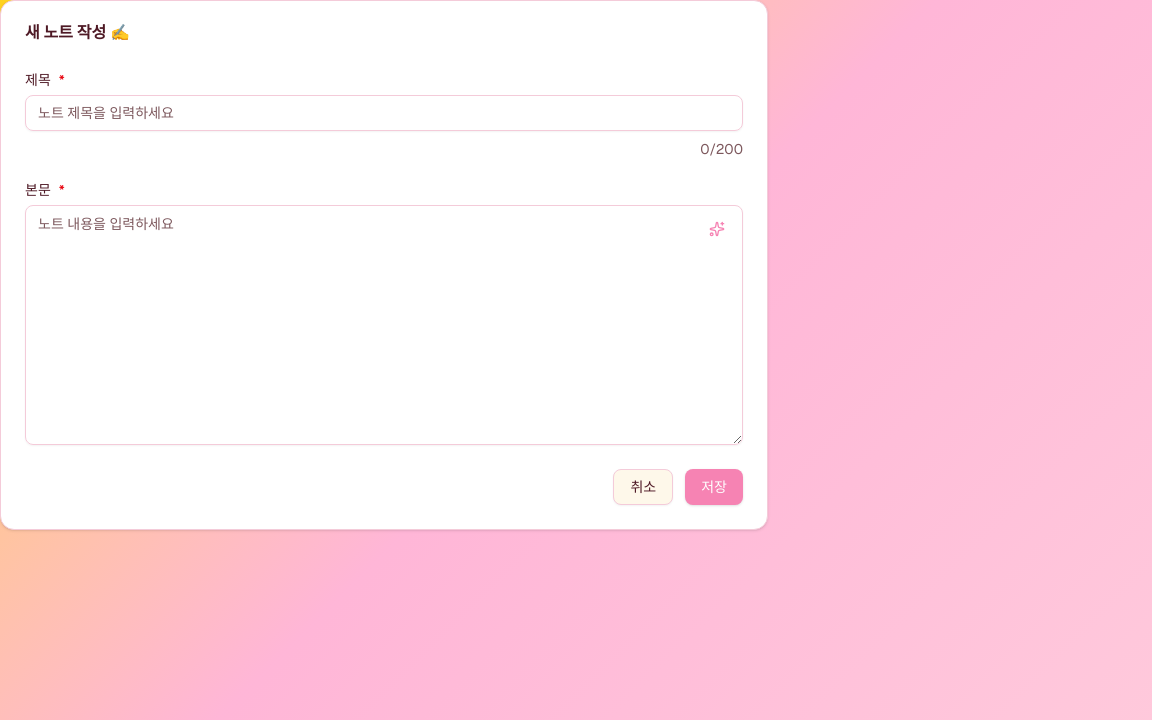
Test: NoteForm 컴포넌트 › 본문이 비어있을 때 유효성 검증 에러를 표시한다
The width and height of the screenshot is (1152, 720).
Type "Test Title" into the field labelled "제목 *".
click(384, 113); type("Test Title")  # box [25,95,743,131]
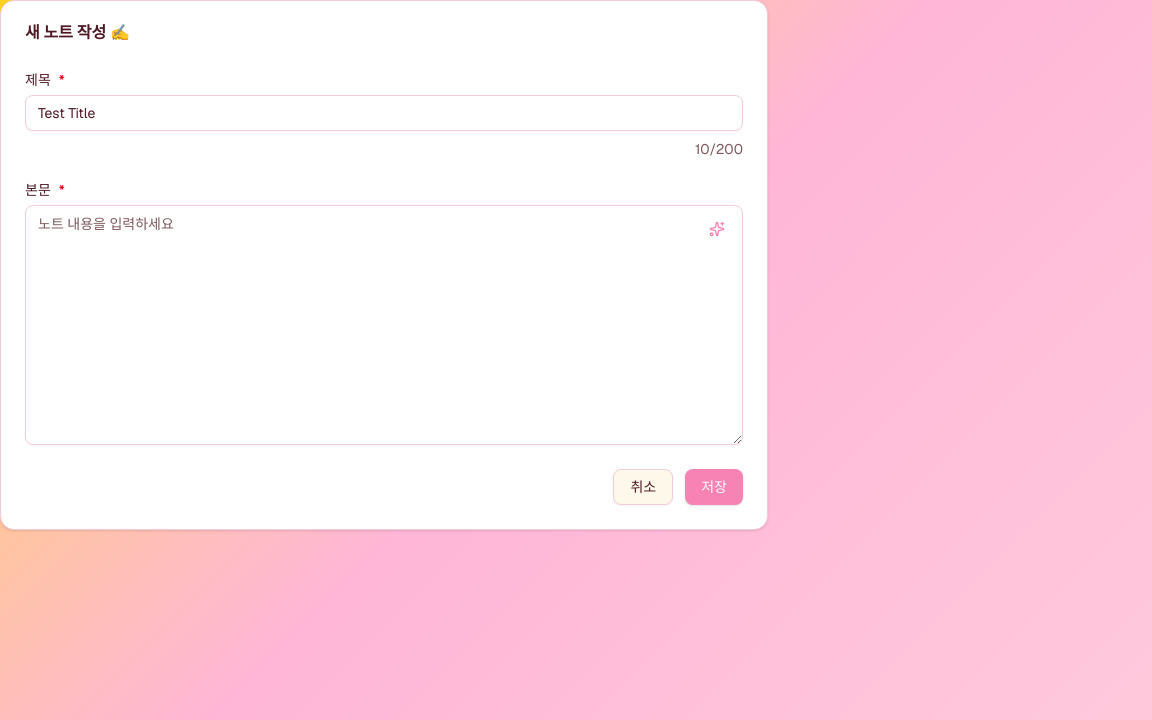
Click the button "저장".
click(714, 487)  # box [685,469,743,505]
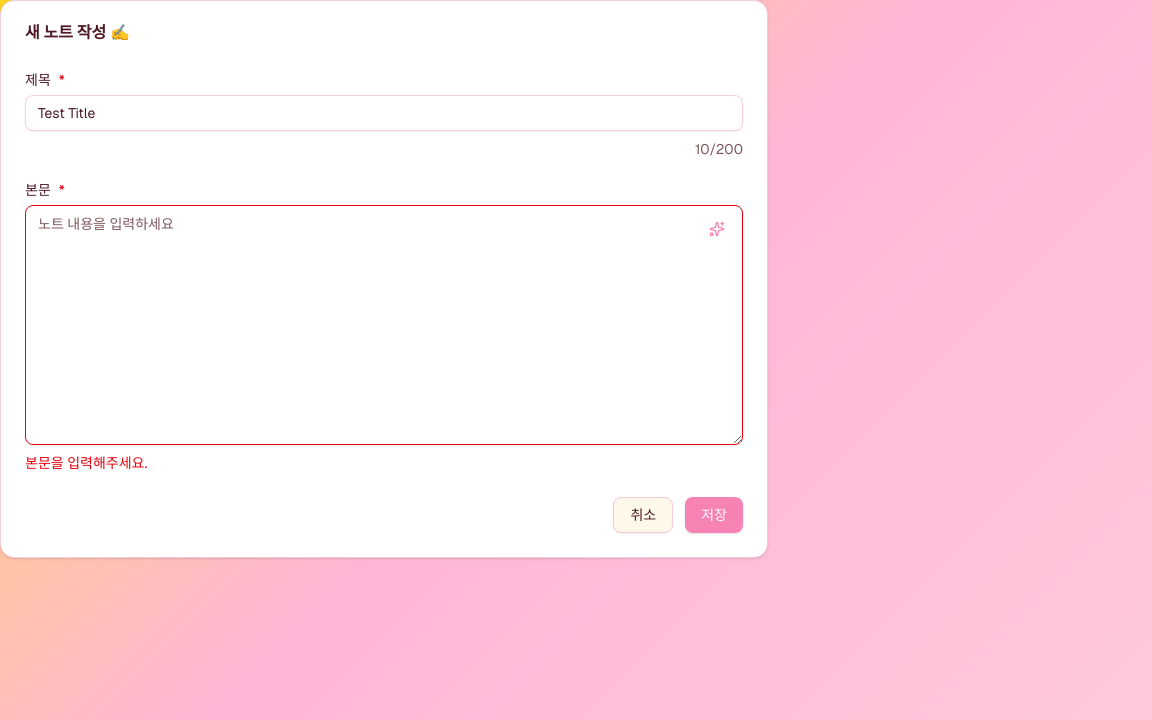
Expected: the text "본문을 입력해주세요." is shown, [25,454,147,472]
